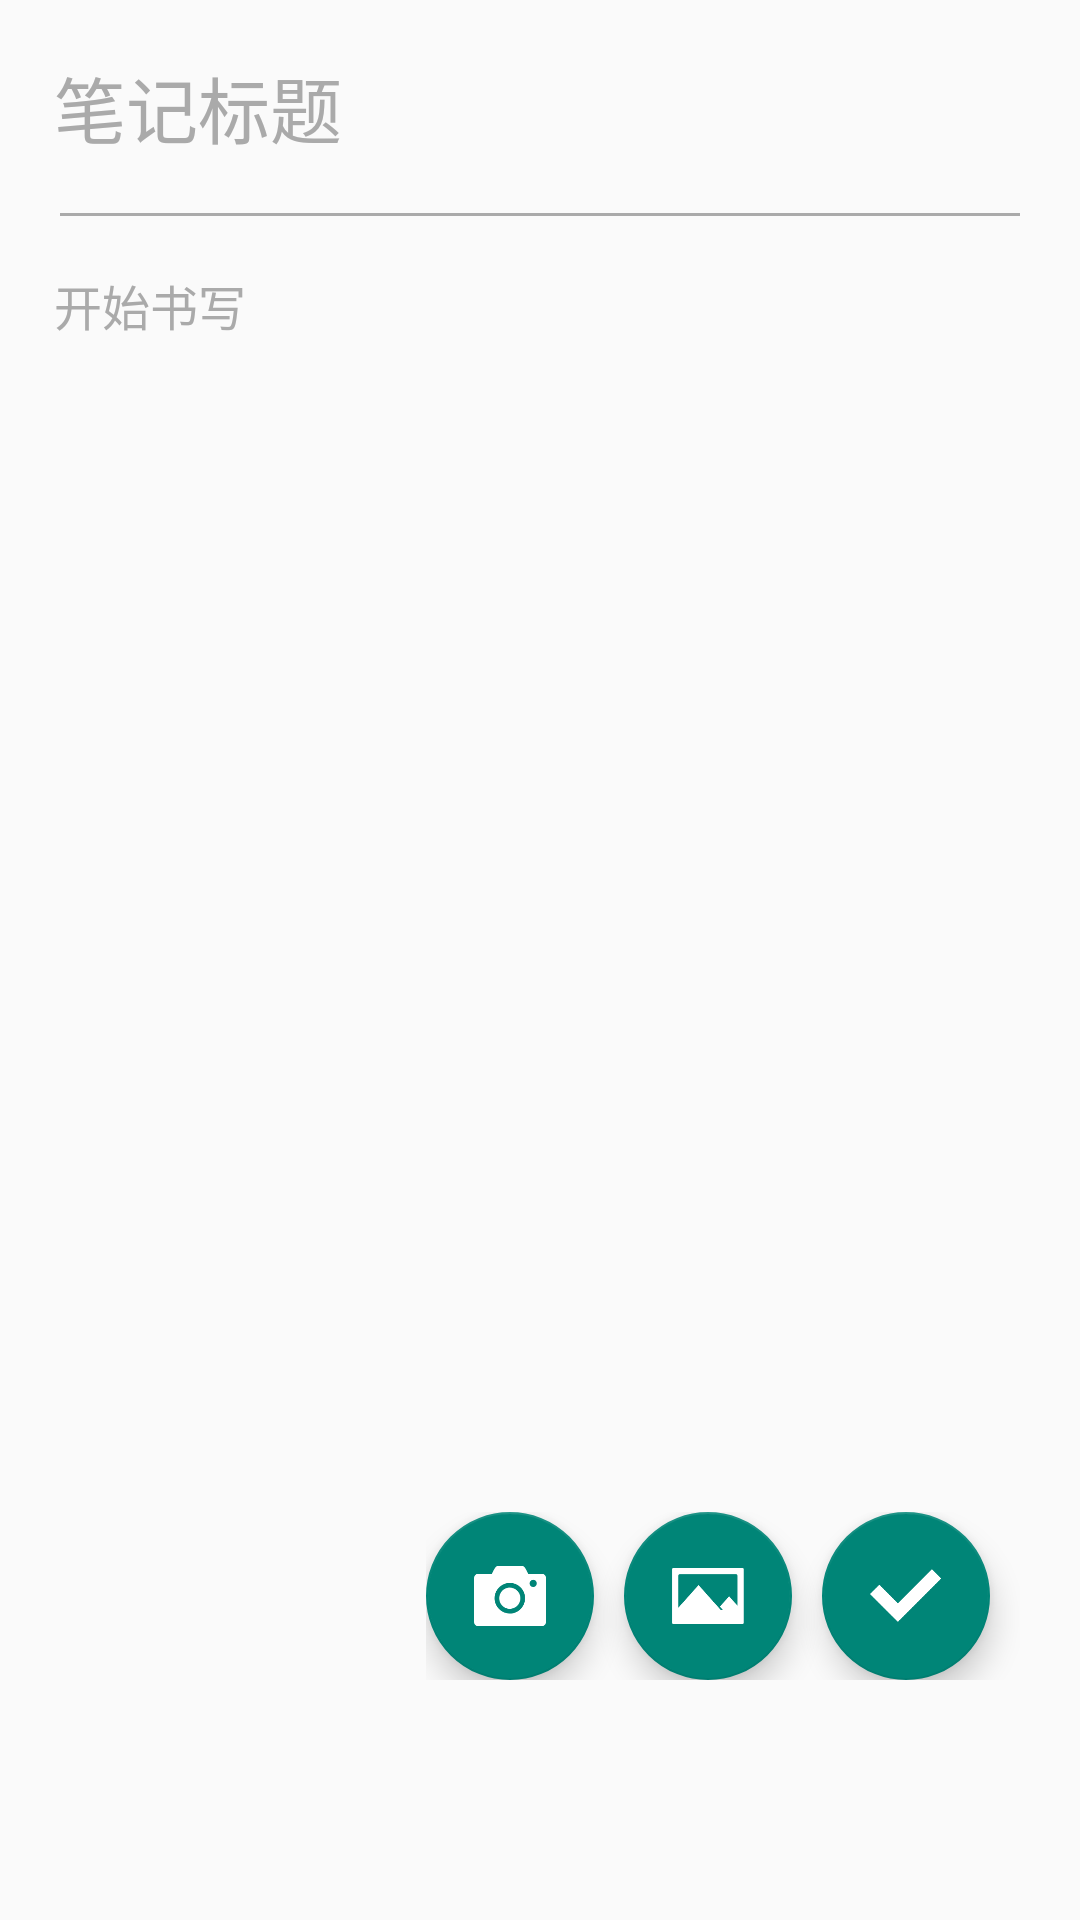

Where to tap for icons on this 1080w x 1920h app screen, as point (x, y):
album: point (708, 1596)
carema: point (510, 1596)
save: point (906, 1596)
